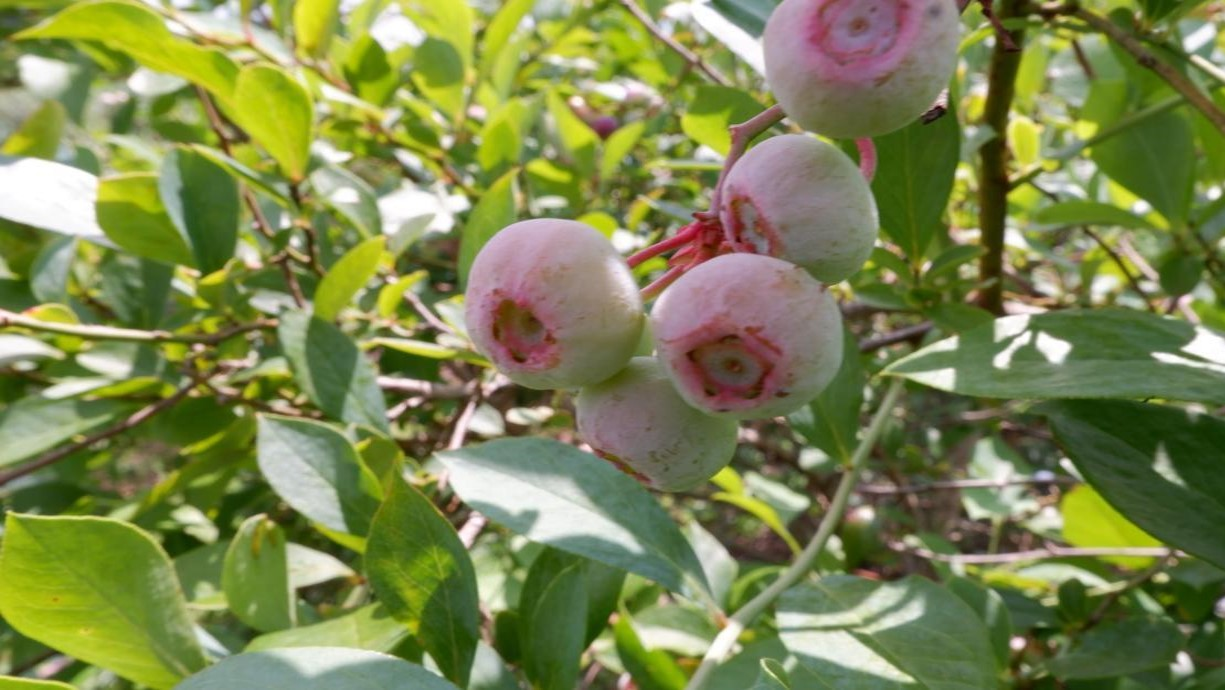Immature: (648, 253, 844, 419), (464, 218, 646, 391), (759, 1, 961, 140), (720, 134, 879, 285), (575, 356, 738, 494)
